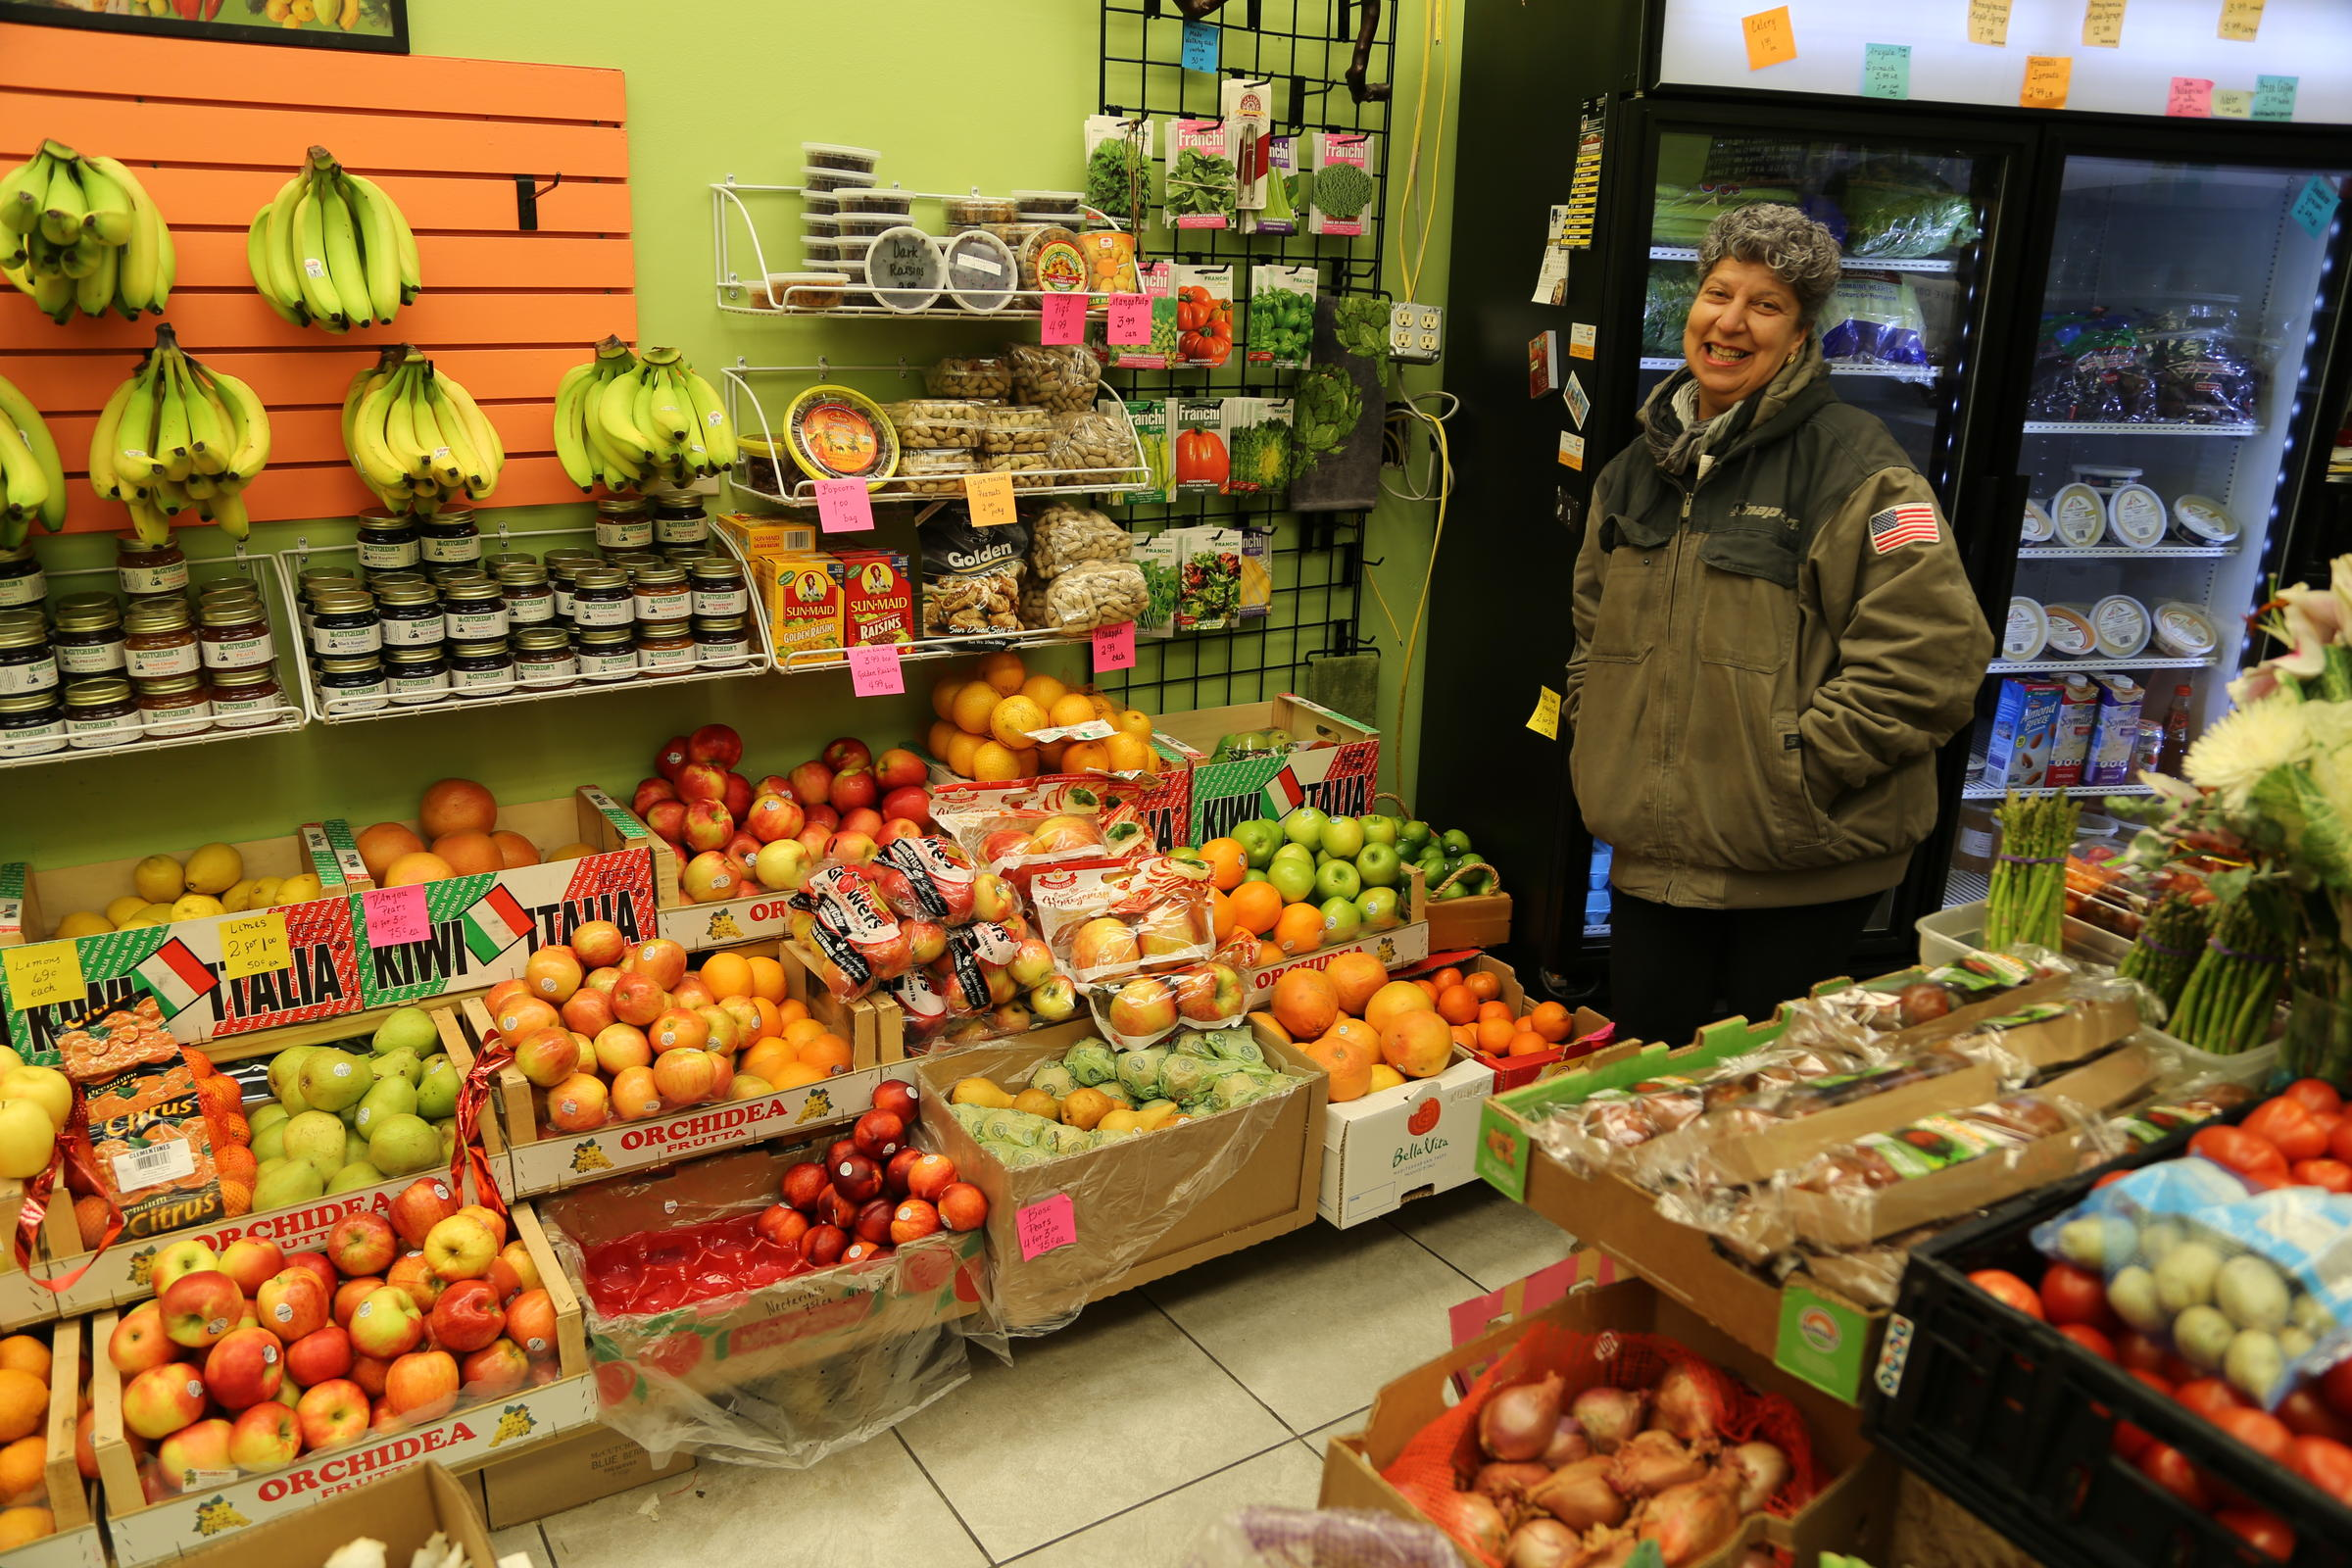Age_40_50: (1684, 217, 1828, 401)
E_White: (1684, 217, 1828, 401)
Emotion_Happy: (1684, 217, 1828, 401)
G_ Female: (1684, 217, 1828, 401)
